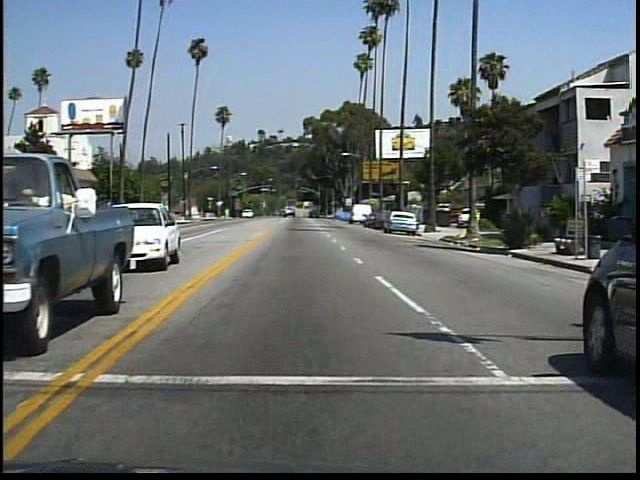person: (512, 198, 537, 251)
